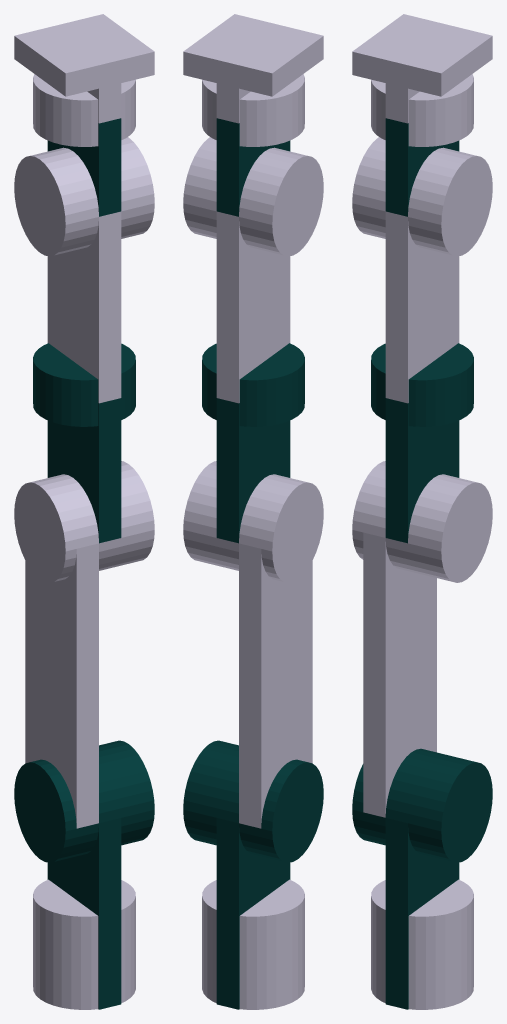
File: 6dof_robot_old2.fbx
3 renders of one model, left to right at view 1: azimuth 30°, elevation 25°; view 2: azimuth 150°, elevation 25°; view 3: azimuth 330°, elevation 25°, orthographic.
Visible parts, largest first — view 1: Arm1, Arm3, Cylinder2, Cylinder1, Cylinder4, Cylinder0, EndEff, Arm0, Arm2, Cylinder3, Cylinder5, Arm4 (+1 smaller); view 2: Arm1, Arm3, Cylinder2, Cylinder1, Cylinder4, Cylinder0, EndEff, Arm0, Arm2, Cylinder3, Cylinder5, Arm4 (+1 smaller); view 3: Arm1, Cylinder1, Arm3, Cylinder2, Cylinder4, Cylinder0, EndEff, Arm0, Arm2, Cylinder3, Cylinder5, Arm4 (+1 smaller).
Boxes of the visible parts, box(x1,y1,x2,y2) form: Arm1: box(25, 543, 98, 828); Arm3: box(47, 211, 121, 403); Cylinder2: box(14, 461, 154, 582); Cylinder1: box(14, 740, 154, 862); Cylinder4: box(14, 137, 154, 256); Cylinder0: box(33, 879, 135, 1009); EndEff: box(14, 14, 154, 96); Arm0: box(47, 818, 121, 1009); Arm2: box(47, 398, 121, 543); Cylinder3: box(33, 343, 135, 426); Cylinder5: box(33, 74, 135, 146); Arm4: box(47, 118, 121, 216); Arm1: box(239, 543, 312, 828); Arm3: box(216, 211, 290, 403); Cylinder2: box(183, 461, 323, 582); Cylinder1: box(183, 740, 323, 862); Cylinder4: box(183, 137, 323, 256); Cylinder0: box(202, 879, 304, 1009); EndEff: box(183, 14, 323, 96); Arm0: box(216, 818, 290, 1009); Arm2: box(216, 398, 290, 543); Cylinder3: box(202, 343, 304, 426); Cylinder5: box(202, 74, 304, 146); Arm4: box(216, 118, 290, 216); Arm1: box(363, 532, 436, 817); Cylinder1: box(352, 748, 492, 862); Arm3: box(385, 211, 459, 403); Cylinder2: box(352, 461, 492, 582); Cylinder4: box(352, 137, 492, 256); Cylinder0: box(371, 879, 473, 1009); EndEff: box(352, 14, 492, 96); Arm0: box(385, 818, 459, 1009); Arm2: box(385, 398, 459, 543); Cylinder3: box(371, 343, 473, 426); Cylinder5: box(371, 74, 473, 146); Arm4: box(385, 118, 459, 216).
Size of the model in its own units: 200 by 2025 by 200.
